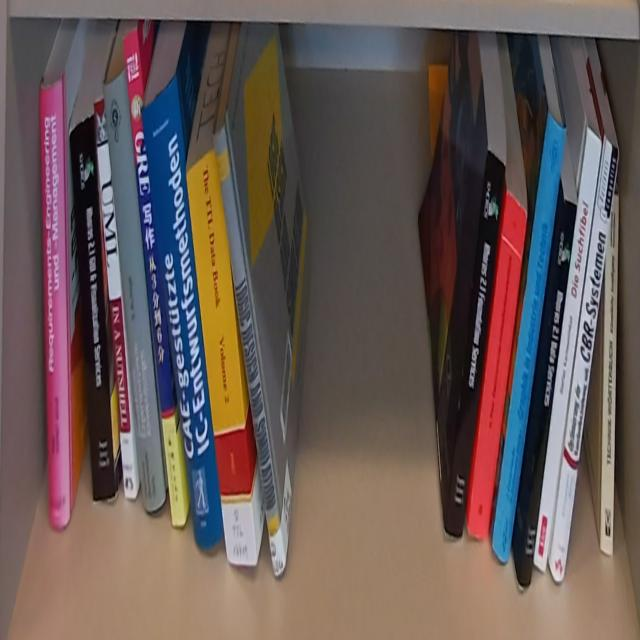Book Spine: (142, 83, 225, 555), (491, 111, 567, 562), (213, 122, 286, 580), (122, 29, 185, 528), (533, 127, 603, 570), (551, 137, 619, 584), (185, 153, 257, 563), (103, 75, 167, 518), (446, 148, 506, 545), (520, 194, 575, 593), (466, 190, 529, 537), (93, 95, 139, 500), (68, 114, 116, 502), (38, 74, 71, 532), (599, 188, 618, 557)
